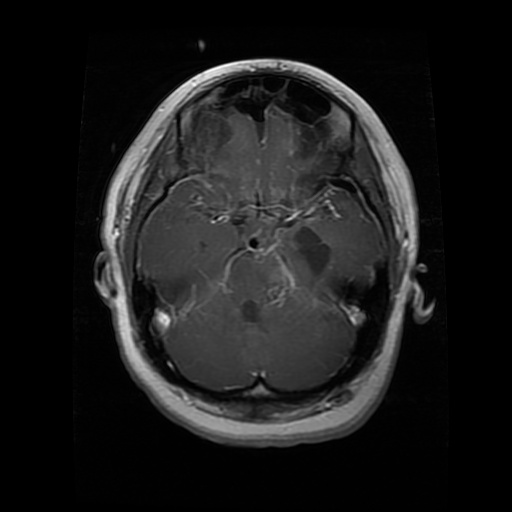glioma: (291, 222, 333, 284)
